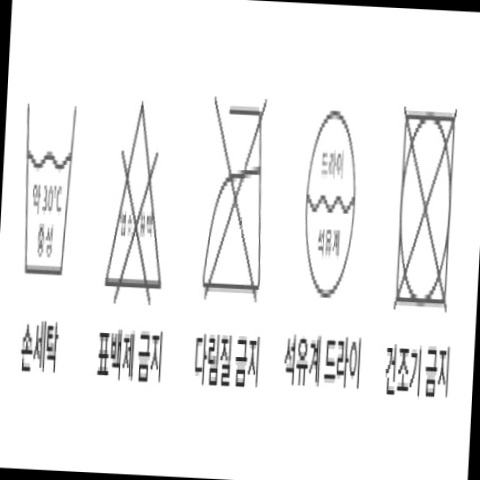30C: (13, 97, 88, 285)
DN_iron: (194, 91, 287, 312)
DN_tumble_dry: (382, 104, 465, 318)
dry_clean_petrol_only: (290, 111, 373, 304)
non_chlorine_bleach: (96, 97, 180, 309)
